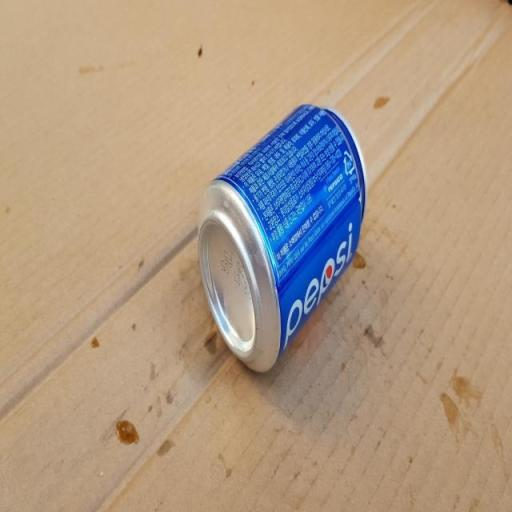metal: (183, 86, 376, 394)
